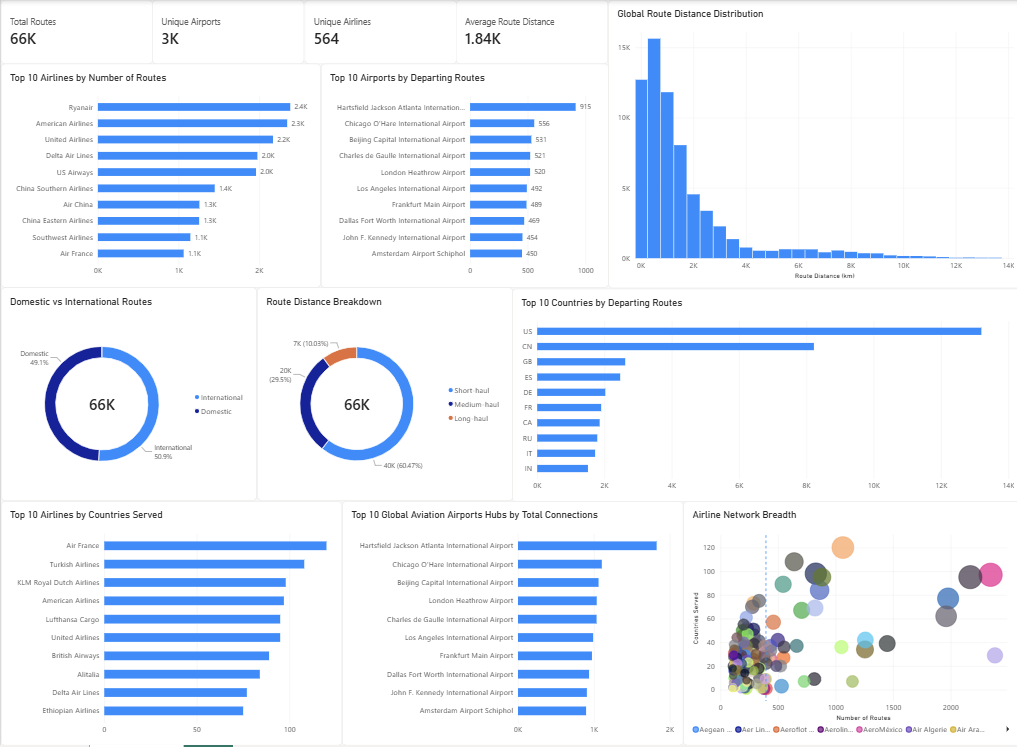

This screenshot's page, from the dashboard's own definition file:
{"tool":"powerbi","page":{"name":"Page 1","canvas":[1920,1400],"ordinal":0},"visuals":[{"type":"cardVisual","fields":{"Data":["public routes.Total Routes"]},"box":[0,0,285,120],"z":0},{"type":"cardVisual","fields":{"Data":["public routes.Unique Airlines"]},"box":[570,0,285,120],"z":1000},{"type":"cardVisual","fields":{"Data":["public routes.Unique Airports"]},"box":[285,0,285,120],"z":2000},{"type":"cardVisual","fields":{"Data":["public routes.Average Route Distance"]},"box":[855,0,285,120],"z":3000},{"type":"clusteredBarChart","title":"Top 10 Airlines by Number of Routes","fields":{"Category":["public routes.airline_name"],"Y":["public routes.Total Routes"]},"box":[0,120,600,420],"z":4000},{"type":"clusteredBarChart","title":"Top 10 Airports by Departing Routes","fields":{"Category":["public routes.src_airport"],"Y":["public routes.Total Routes"]},"box":[600,120,540,420],"z":5000},{"type":"donutChart","title":"Domestic vs International Routes","fields":{"Category":["public routes.Route Type"],"Y":["public routes.Total Routes"]},"box":[0,540,480,400],"z":6000},{"type":"donutChart","title":"Route Distance Breakdown","fields":{"Category":["public routes.Route Distance Category"],"Y":["public routes.Total Routes"]},"box":[480,540,480,400],"z":7000},{"type":"clusteredBarChart","title":"Top 10 Countries by Departing Routes","fields":{"Category":["public routes.src_country"],"Y":["public routes.Total Routes"]},"box":[960.2,540.7,960.2,400.1],"z":8000},{"type":"clusteredBarChart","title":"Top 10 Airlines by Countries Served","fields":{"Category":["public routes.airline_name"],"Y":["public routes.Countries Served"]},"box":[0,940,640,460],"z":9000},{"type":"clusteredBarChart","title":"Top 10 Global Aviation Airports Hubs by Total Connections","fields":{"Category":["Query1.airport_name"],"Y":["Sum(Query1.total_connections)"]},"box":[640,940,640,460],"z":10000},{"type":"scatterChart","title":"Airline Network Breadth","fields":{"Series":["public routes.airline_name"],"Size":["public routes.Airports Served"],"X":["public routes.Airline Routes"],"Y":["public routes.Countries Served"]},"box":[1280,940,640,460],"z":11000},{"type":"clusteredColumnChart","title":"Global Route Distance Distribution","fields":{"Category":["public routes.distance_km (bins)"],"Y":["public routes.Total Routes"]},"box":[1139.7,0,780.8,540.7],"z":12000}]}

Visuals, with their boxes in screenshot pixels (x1, y1, x2, y2), scaled from the page's 1920x1400 canvas onto the 1017x747 screenshot:
cardVisual - public routes.Total Routes: [x1=0, y1=0, x2=151, y2=64]
cardVisual - public routes.Unique Airlines: [x1=302, y1=0, x2=453, y2=64]
cardVisual - public routes.Unique Airports: [x1=151, y1=0, x2=302, y2=64]
cardVisual - public routes.Average Route Distance: [x1=453, y1=0, x2=604, y2=64]
"Top 10 Airlines by Number of Routes" clusteredBarChart: [x1=0, y1=64, x2=318, y2=288]
"Top 10 Airports by Departing Routes" clusteredBarChart: [x1=318, y1=64, x2=604, y2=288]
"Domestic vs International Routes" donutChart: [x1=0, y1=288, x2=254, y2=502]
"Route Distance Breakdown" donutChart: [x1=254, y1=288, x2=508, y2=502]
"Top 10 Countries by Departing Routes" clusteredBarChart: [x1=509, y1=289, x2=1016, y2=502]
"Top 10 Airlines by Countries Served" clusteredBarChart: [x1=0, y1=502, x2=339, y2=746]
"Top 10 Global Aviation Airports Hubs by Total Connections" clusteredBarChart: [x1=339, y1=502, x2=678, y2=746]
"Airline Network Breadth" scatterChart: [x1=678, y1=502, x2=1016, y2=746]
"Global Route Distance Distribution" clusteredColumnChart: [x1=604, y1=0, x2=1016, y2=289]
